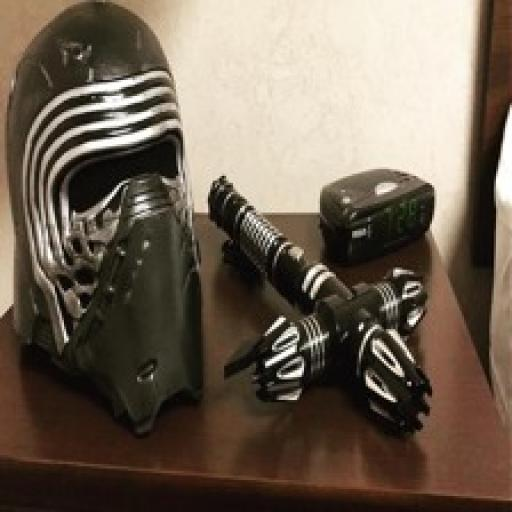lightsaber: (202, 173, 438, 439)
